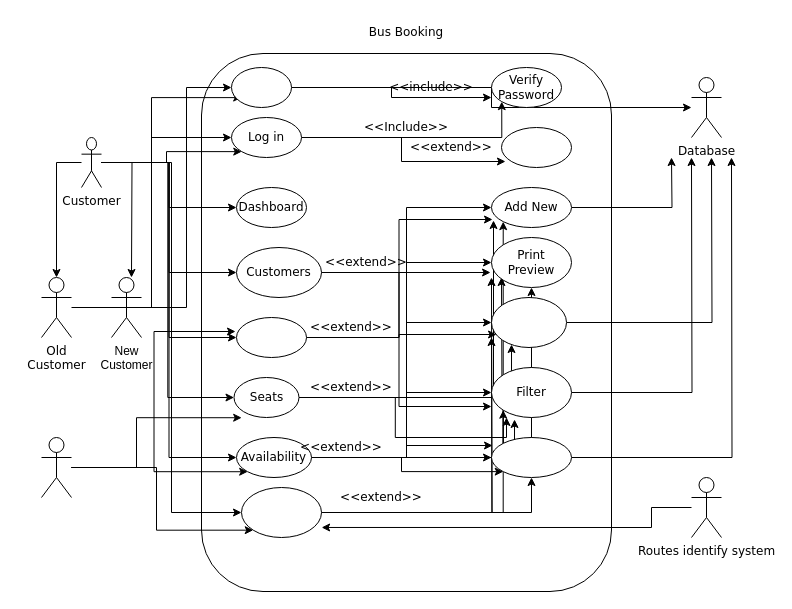
The diagram is 792 pixels wide and 609 high, and some of its shapes have lost their labels. Here are the shapes that lost their labels. From the top down, the centre of each, then its label:
At point (261, 87): "Register".
At point (536, 147): "Wrong Password".
At point (271, 337): "Booking".
At point (528, 322): "Save CSV".
At point (56, 467): "Management".
At point (531, 457): "Show all".
At point (281, 512): "Routes".
